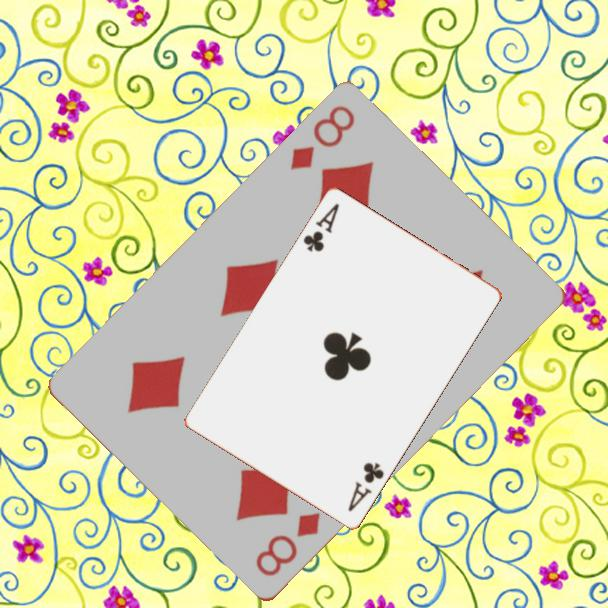c01: (344, 459, 387, 515), (299, 200, 342, 256)
d08: (286, 102, 358, 174), (252, 509, 324, 580)
